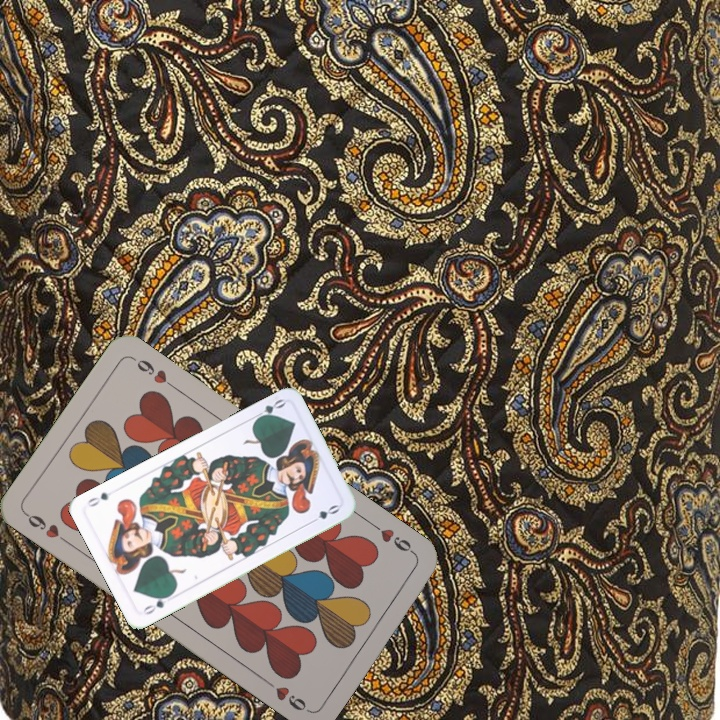GO: (249, 395, 288, 424), (139, 590, 175, 618)
H9: (367, 519, 419, 558), (21, 509, 73, 547)
